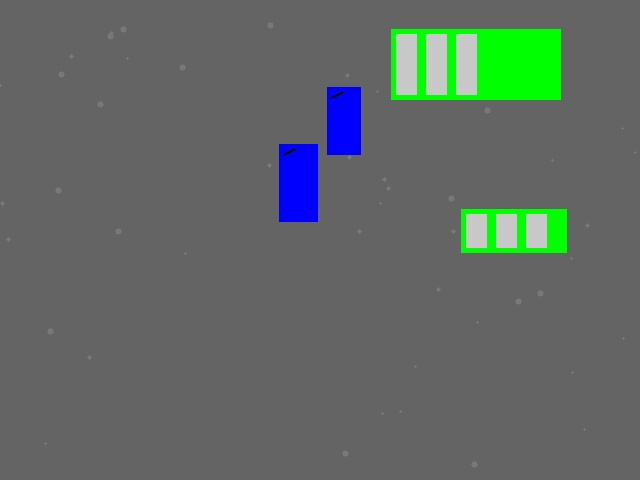bus: (391, 29, 560, 99), (461, 209, 566, 252)
motorcycle: (279, 144, 317, 221), (327, 87, 360, 154)
